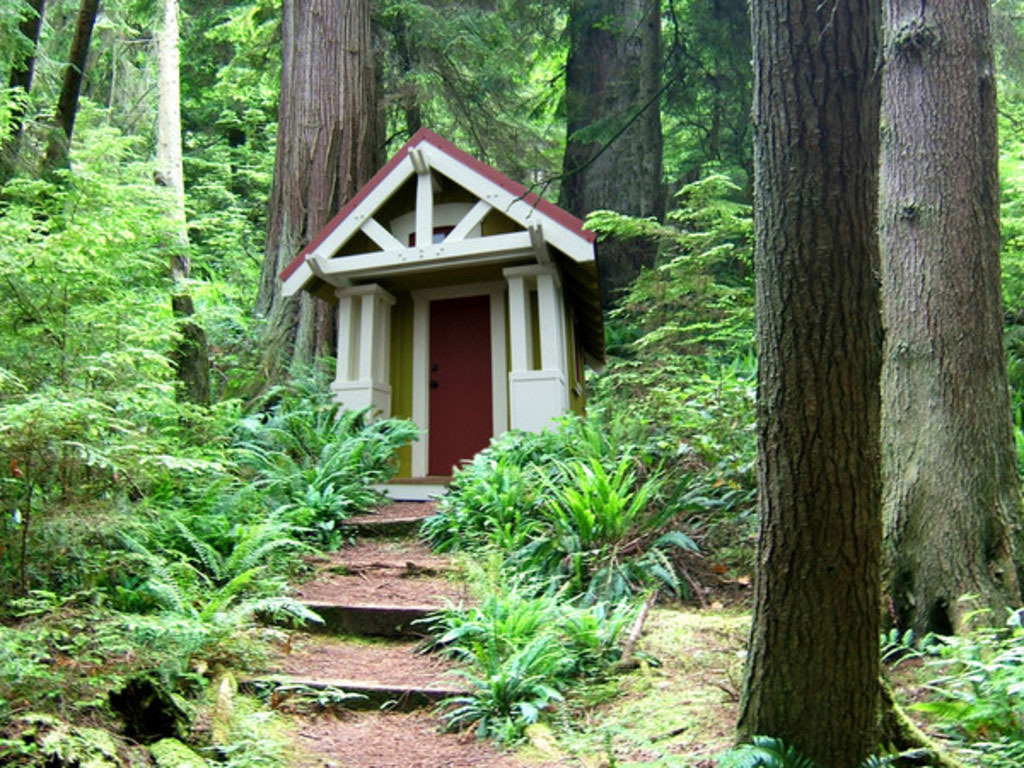door: (414, 292, 502, 486)
